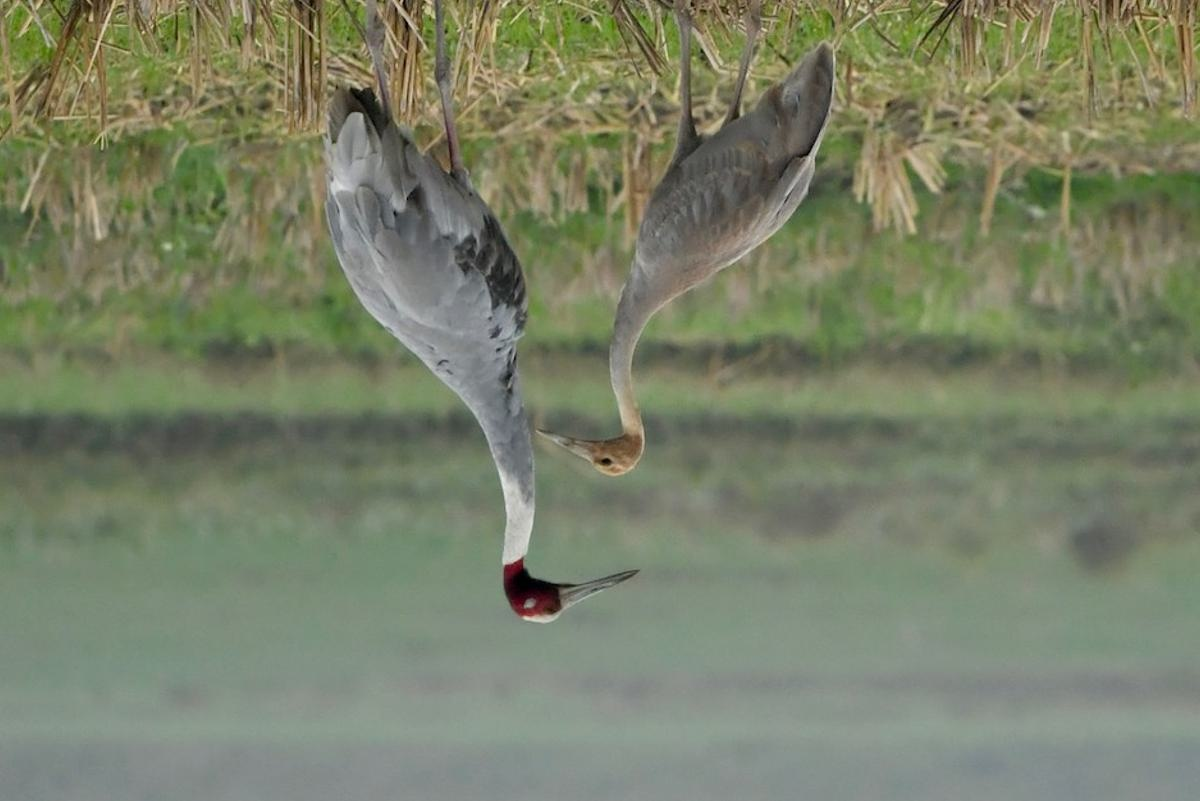crane: (286, 1, 640, 642), (541, 1, 857, 488)
